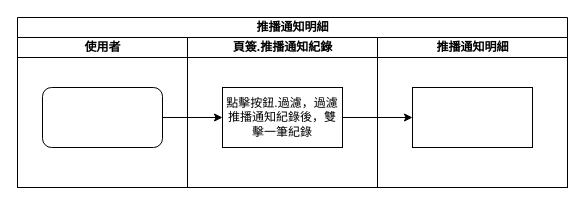
Some shapes in this 585 by 205 pixel diagram are drawn without their labels. Here are the shapes that lost their labels. From the top down, the centre of each, then its label:
point 102,117: 點擊表單.個人資料的頁簽.推播通知紀錄
point 472,117: 開啟表單，顯示該筆推播通知紀錄
